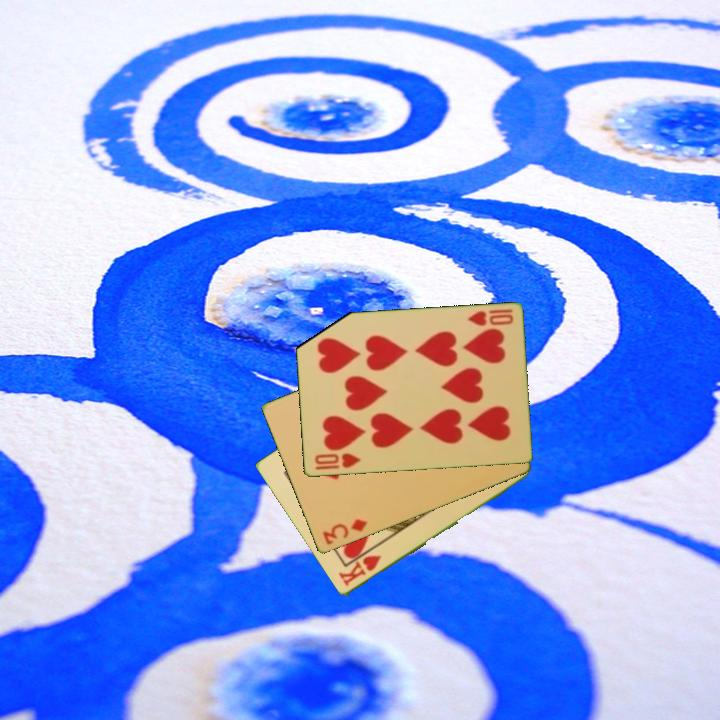10h: (464, 306, 516, 329), (311, 450, 363, 471)
3d: (319, 516, 370, 548)
Kh: (335, 552, 384, 590)
